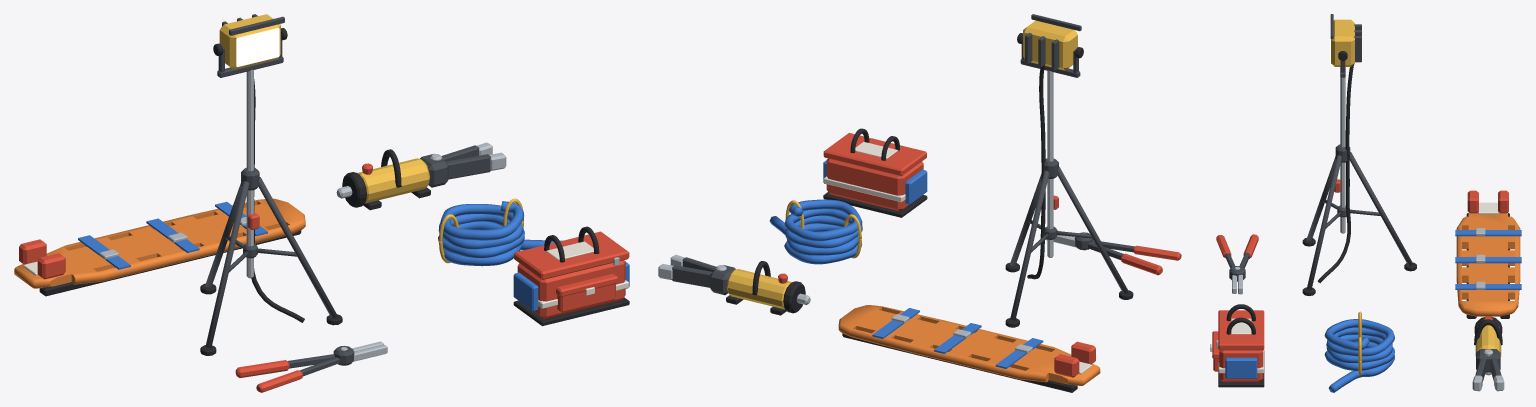
Rendered from rescue-equipment-set.glb.
3 views of the same model, side by side, from view 1: azimuth 30°, elevation 25°; view 2: azimuth 150°, elevation 25°; view 3: azimuth 270°, elevation 25° (orthographic). The views are drawn at different scales.
Parts seen in each view (by area): view 1: SpineBoard_Deck, Rope_Coil, MedBag_Lid, MedBag_Body, Spreader_Body, SpineBoard, Flood_Pole, Flood_Lens, Flood_Head, Flood_Leg_1, Flood_Leg_2, MedBag_Pocket (+12 smaller); view 2: SpineBoard_Deck, Rope_Coil, MedBag_Body, MedBag_Lid, Flood_Head, Spreader_Body, SpineBoard, Flood_Pole, Flood_Leg_0, Flood_Cable, Flood_Leg_1, MedBag_Base (+8 smaller); view 3: SpineBoard_Deck, Rope_Coil, MedBag_Lid, SpineBoard, Flood_Head, Flood_Cable, Flood_Pole, Flood_Leg_2, MedBag_Body, Flood_Leg_0, MedBag_EndPocket_R, Spreader_Body (+4 smaller).
Boxes of the visible parts, x1,y1,x2,y2 form: SpineBoard_Deck: (14, 198, 305, 288); Rope_Coil: (438, 201, 561, 266); MedBag_Lid: (514, 231, 629, 279); MedBag_Body: (517, 260, 625, 318); Spreader_Body: (357, 158, 429, 203); SpineBoard: (78, 201, 267, 269); Flood_Pole: (246, 69, 253, 278); Flood_Lens: (236, 28, 279, 66); Flood_Head: (219, 14, 280, 69); Flood_Leg_1: (205, 181, 249, 348); Flood_Leg_2: (258, 177, 337, 318); MedBag_Pocket: (557, 284, 615, 312); SpineBoard_Deck: (838, 305, 1100, 385); Rope_Coil: (769, 199, 862, 264); MedBag_Body: (826, 158, 923, 211); MedBag_Lid: (823, 133, 926, 176); Flood_Head: (1023, 20, 1077, 70); Spreader_Body: (726, 269, 791, 309); SpineBoard: (872, 308, 1043, 368); Flood_Pole: (1047, 70, 1053, 257); Flood_Leg_0: (1010, 170, 1049, 320); Flood_Cable: (1027, 65, 1045, 279); Flood_Leg_1: (1058, 166, 1128, 293); MedBag_Base: (823, 192, 927, 217); SpineBoard_Deck: (1456, 212, 1520, 316); Rope_Coil: (1324, 319, 1394, 392); MedBag_Lid: (1218, 310, 1264, 350); SpineBoard: (1455, 228, 1521, 289); Flood_Head: (1331, 19, 1354, 66); Flood_Cable: (1318, 64, 1354, 283); Flood_Pole: (1340, 77, 1345, 233); Flood_Leg_2: (1306, 155, 1341, 289); MedBag_Body: (1219, 350, 1263, 382); Flood_Leg_0: (1350, 152, 1412, 265); MedBag_EndPocket_R: (1225, 357, 1257, 378); Spreader_Body: (1475, 325, 1501, 357).
Bounding box in the file's own units: 11.09 × 6.77 × 7.81.
